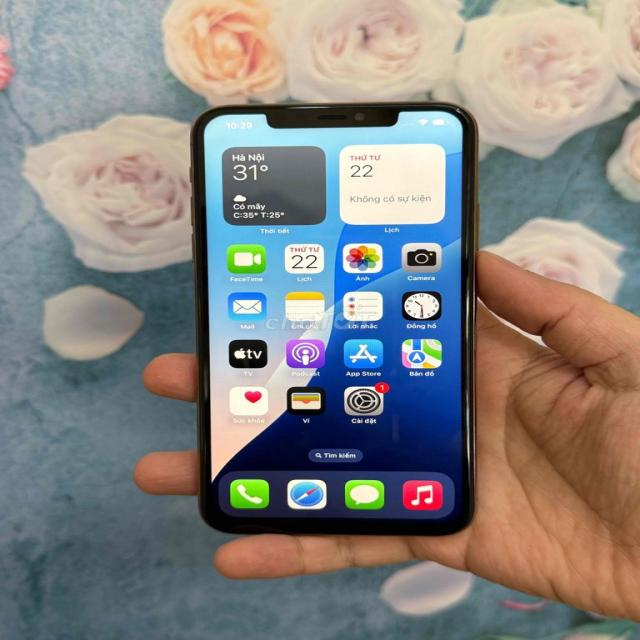scratch: (459, 382, 481, 468), (460, 282, 480, 344), (443, 102, 478, 126)
